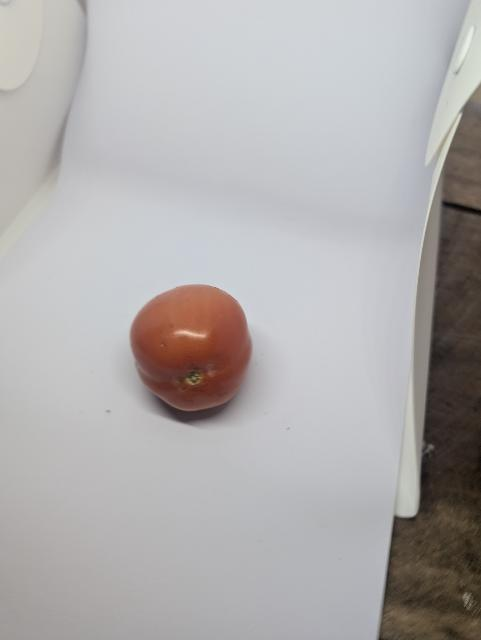red: (126, 275, 267, 428)
